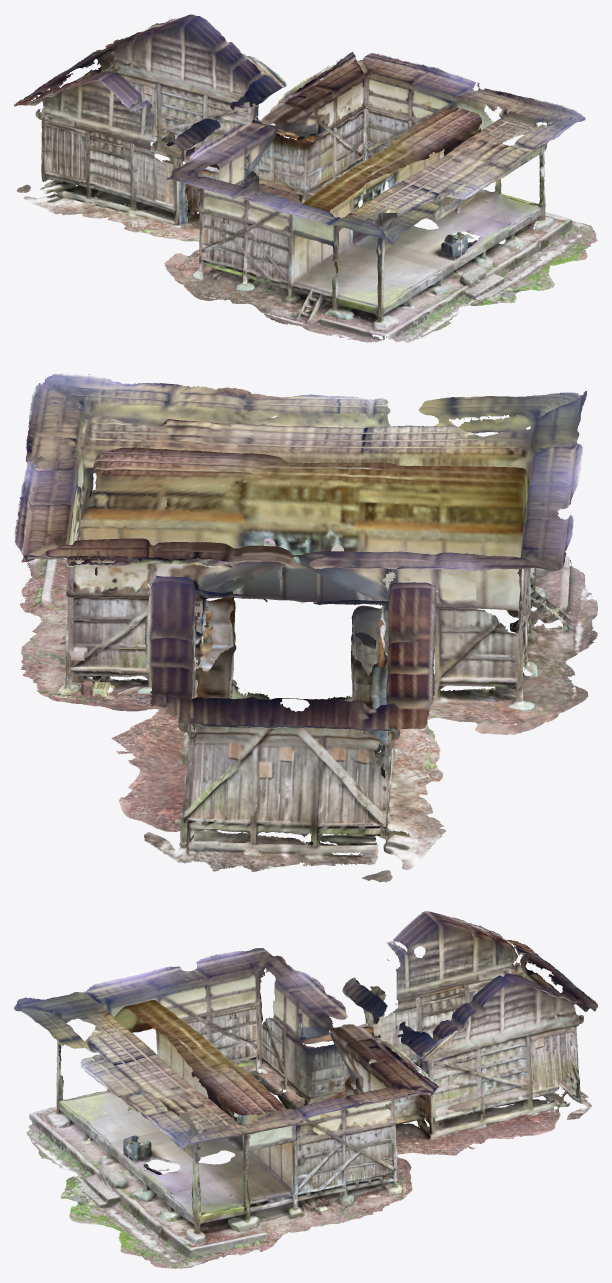
The model's file is ruined_japanese_house.glb.
The picture shows the model from 3 angles, top to bottom: view 1: azimuth 30°, elevation 25°; view 2: azimuth 150°, elevation 25°; view 3: azimuth 270°, elevation 25°; orthographic projection. The views are drawn at different scales.
Visible parts, largest first — view 1: Object_4, Object_6, Object_7, Object_5, Object_3, Object_8, Object_2; view 2: Object_7, Object_4, Object_5, Object_6, Object_3, Object_2, Object_8; view 3: Object_6, Object_5, Object_7, Object_4, Object_3, Object_8, Object_2.
Boxes of the visible parts, <box> form: Object_4: <box>23,52,569,337</box>; Object_6: <box>14,61,597,330</box>; Object_7: <box>35,25,585,342</box>; Object_5: <box>37,24,554,338</box>; Object_3: <box>53,18,587,342</box>; Object_8: <box>69,14,591,339</box>; Object_2: <box>16,15,592,342</box>; Object_7: <box>23,372,597,871</box>; Object_4: <box>16,385,597,869</box>; Object_5: <box>21,423,583,828</box>; Object_6: <box>23,387,593,855</box>; Object_3: <box>18,381,586,871</box>; Object_2: <box>20,373,597,882</box>; Object_8: <box>14,390,596,861</box>; Object_6: <box>63,911,583,1268</box>; Object_5: <box>37,954,572,1254</box>; Object_7: <box>28,961,593,1251</box>; Object_4: <box>14,936,573,1255</box>; Object_3: <box>26,920,591,1263</box>; Object_8: <box>29,911,586,1261</box>; Object_2: <box>14,913,597,1263</box>.
Bounding box in the file's own units: 16.69 × 6.05 × 19.17.
1 material, 1 textured.
